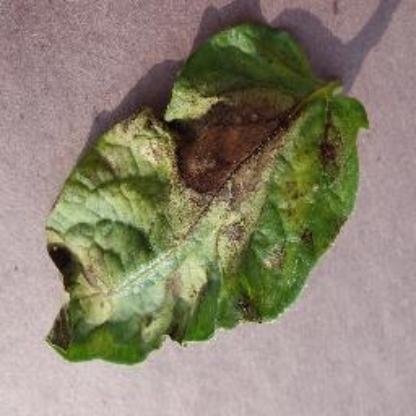Late-Blight: (32, 13, 392, 378)
